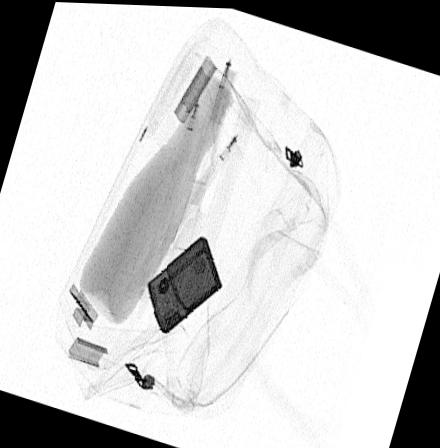Lighter: (148, 233, 223, 331)
